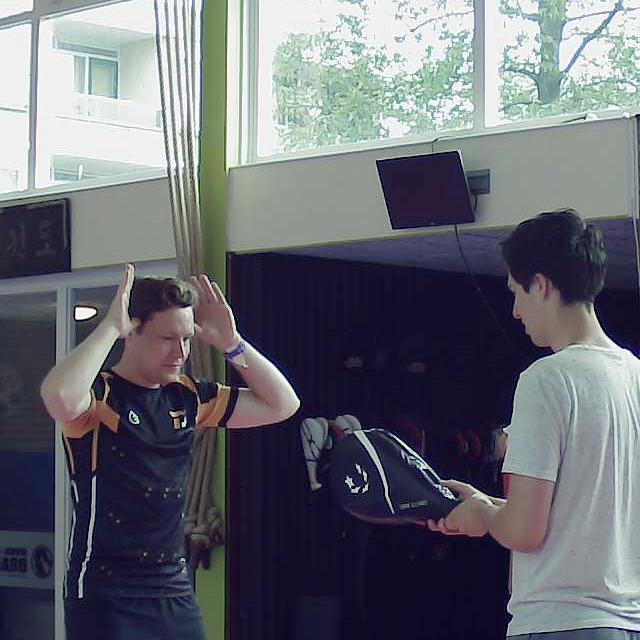paddle: (323, 424, 464, 531)
